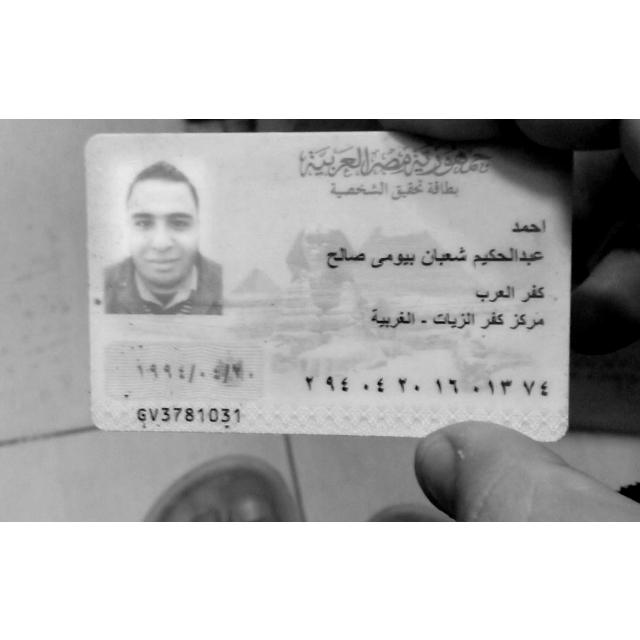front: (86, 131, 572, 439)
